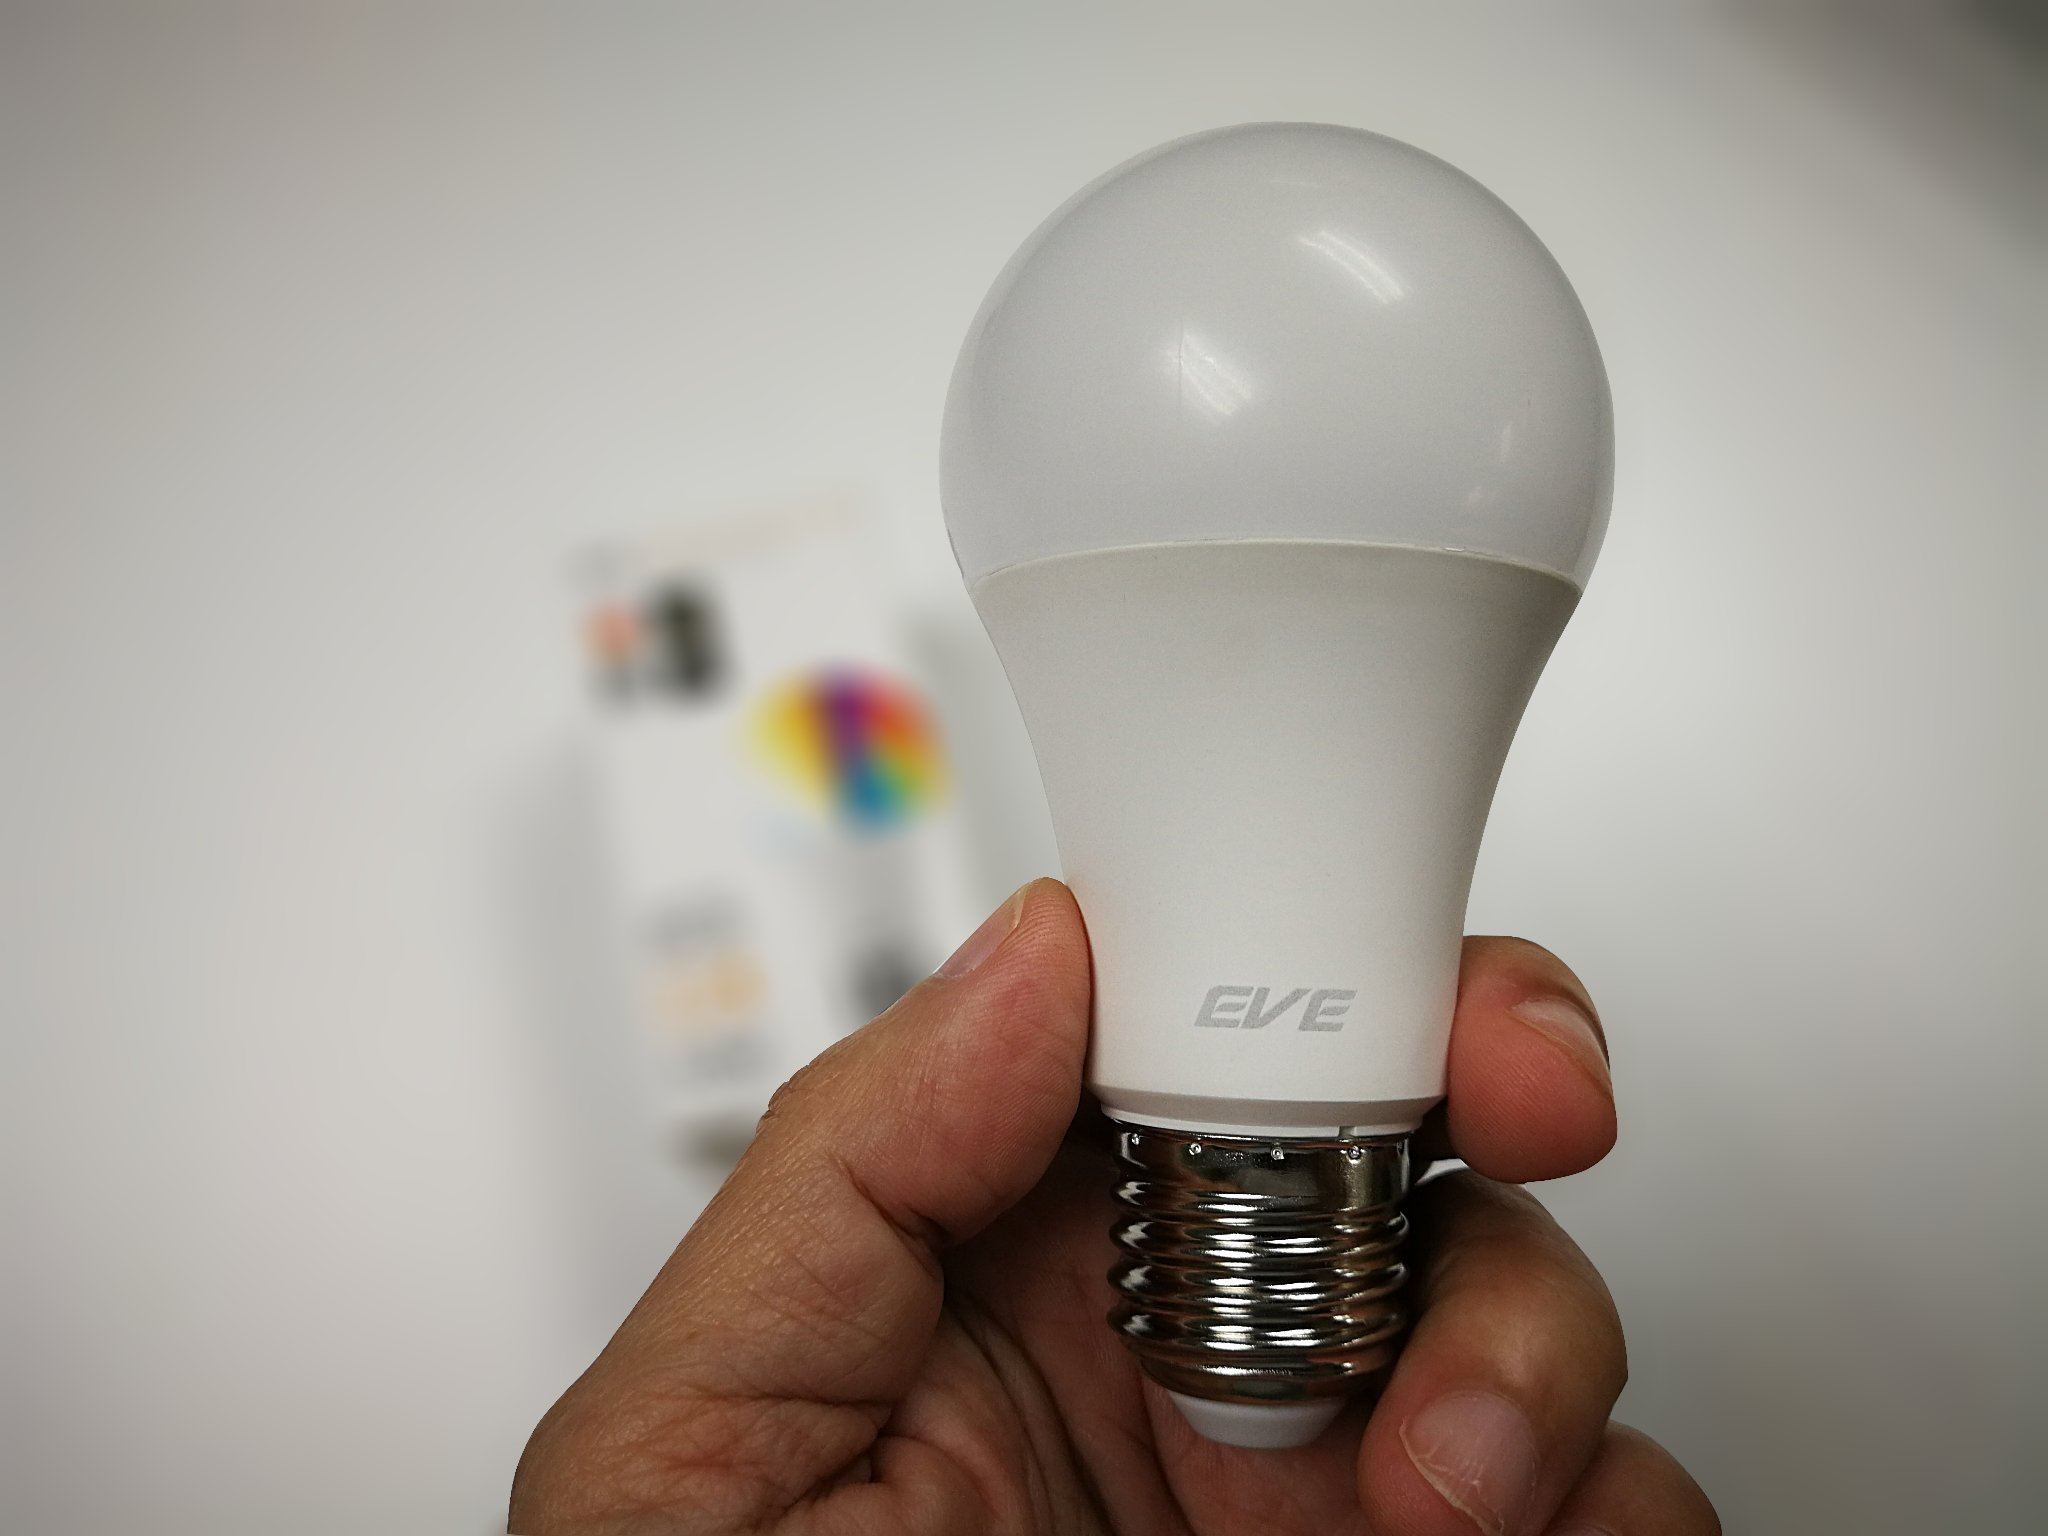Light_bulb: (913, 105, 1634, 1468)
